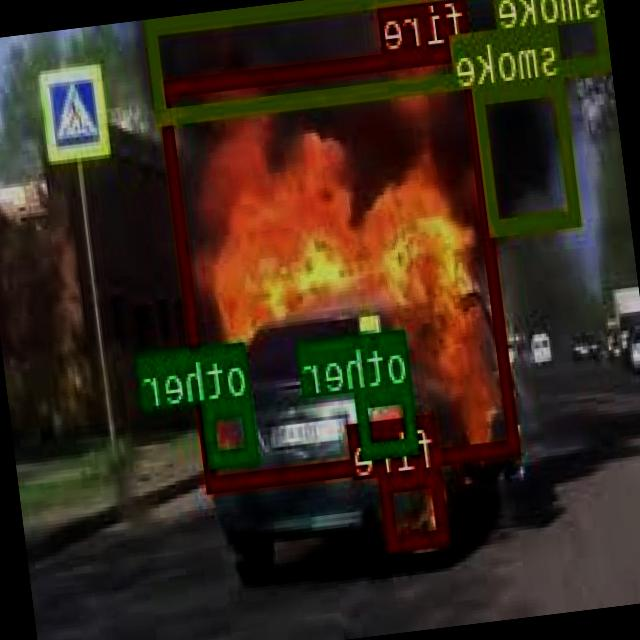fire: (158, 41, 520, 490), (380, 468, 450, 548)
smoke: (148, 0, 611, 119), (475, 76, 582, 232)
